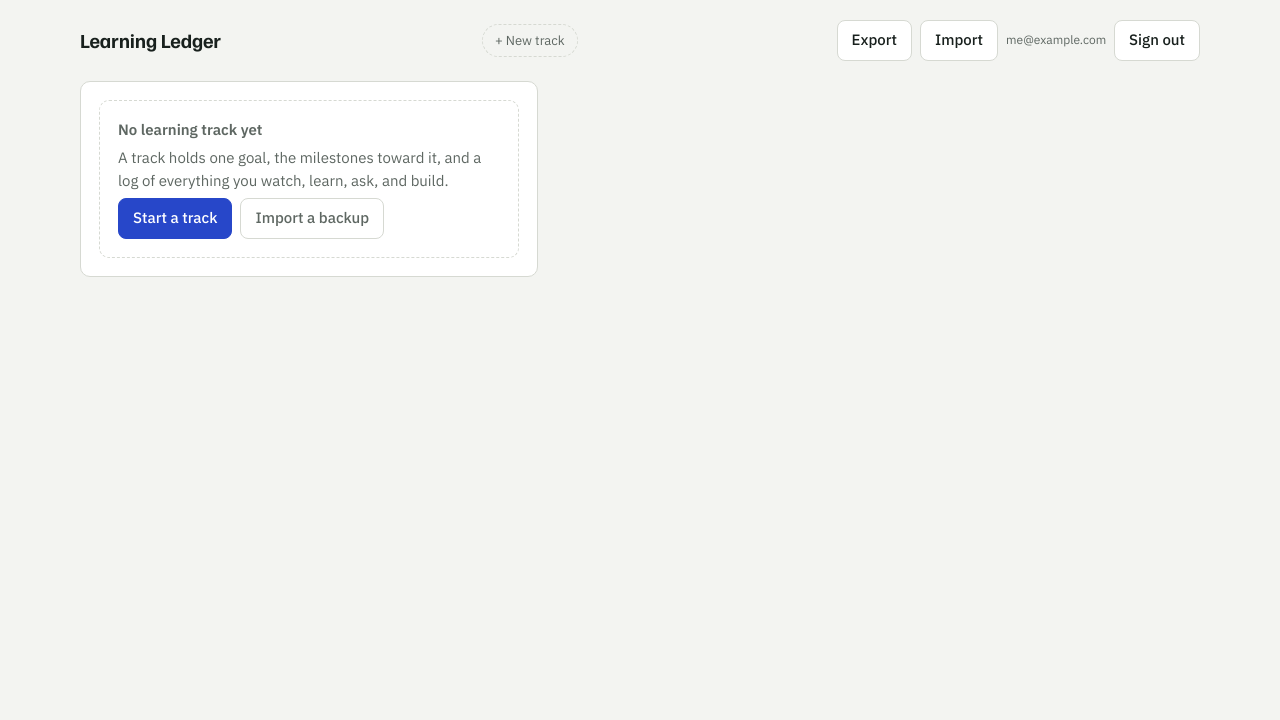
Test case: Learning Ledger app › starts empty and creates a first track
Click the button "Start a track": (175, 218) top-left (118, 198), bottom-right (232, 238)
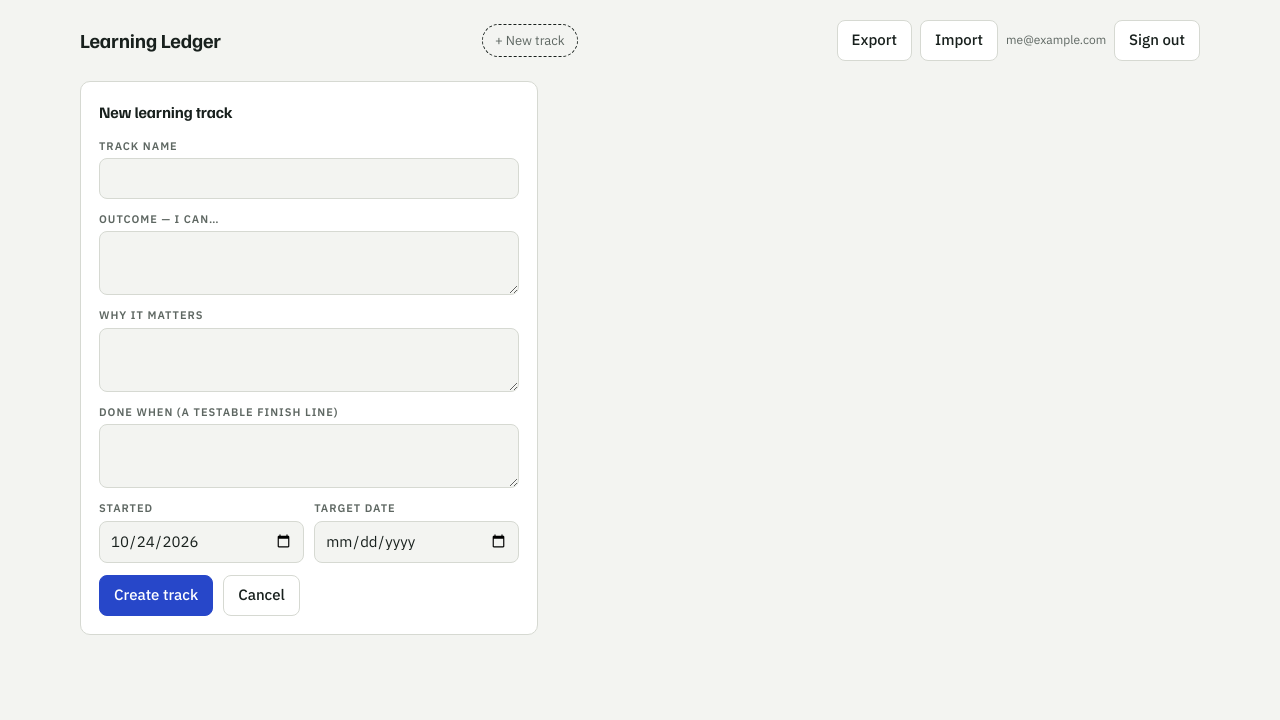
In the field labelled "Track name": (309, 178) top-left (99, 158), bottom-right (519, 198), type "Learn Git"
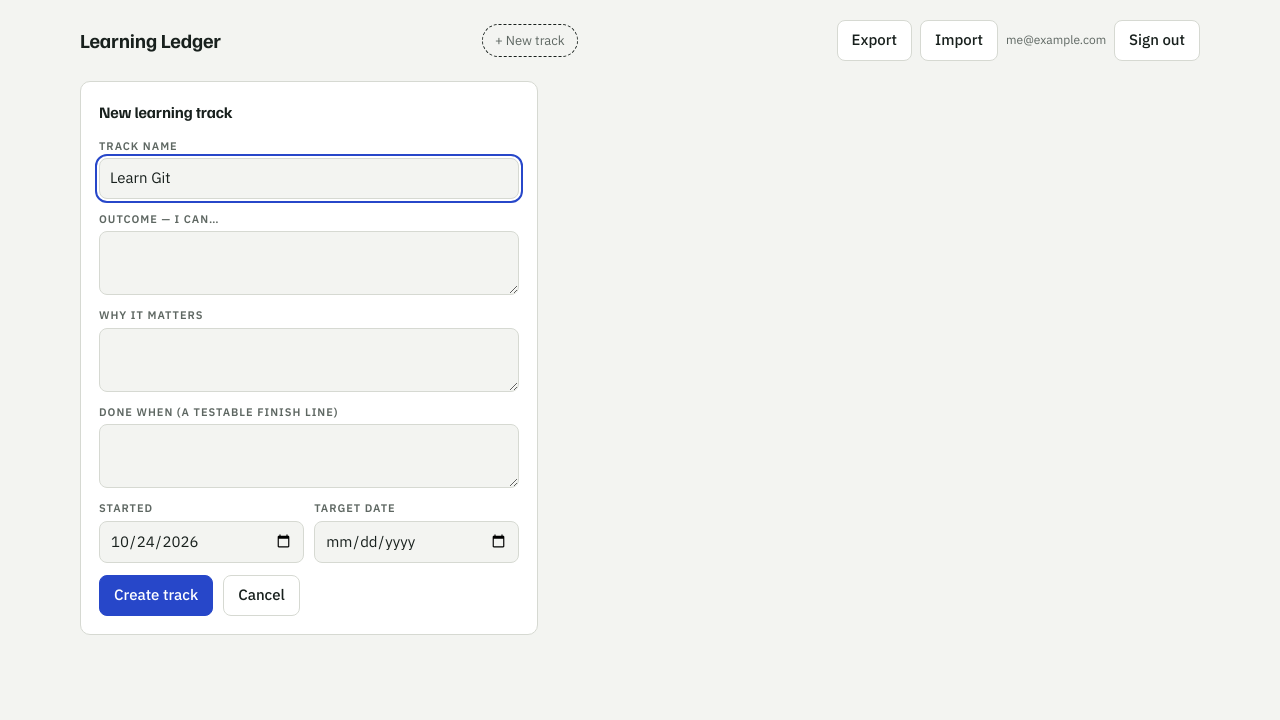
In the text box labelled "Outcome — I can…": (309, 263) top-left (99, 231), bottom-right (519, 295), type "I can branch and merge"
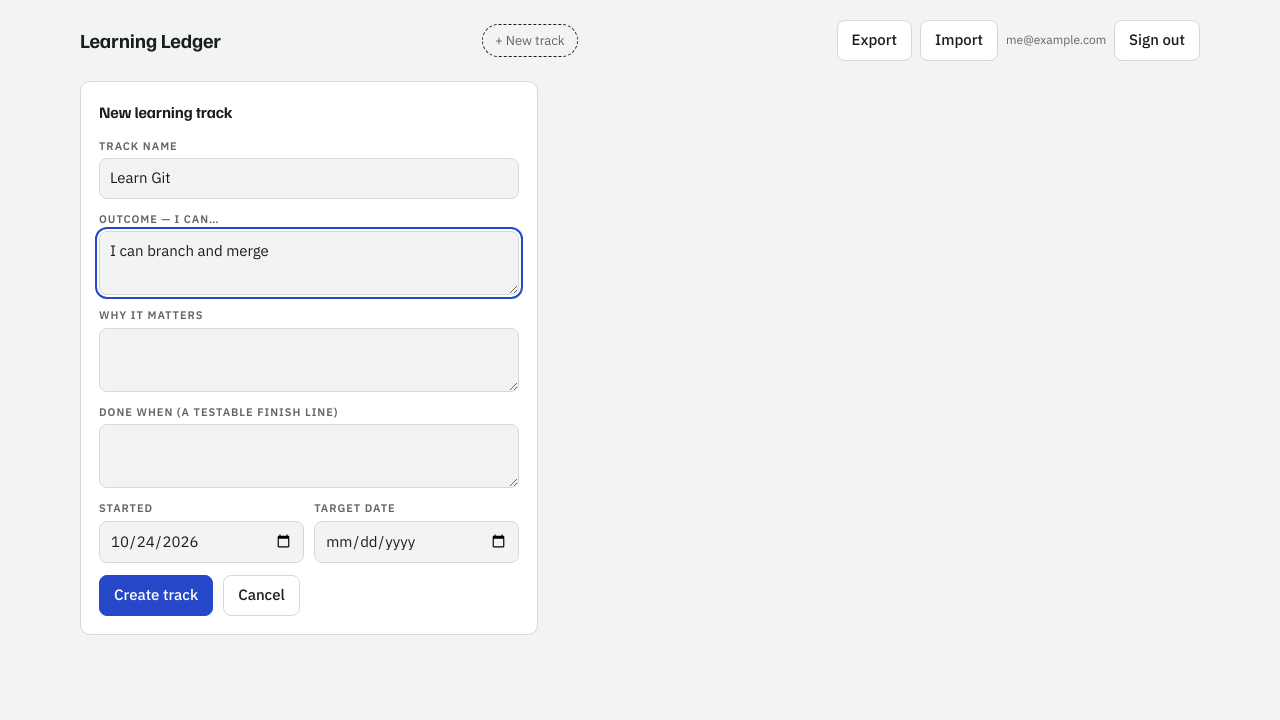
Click the button "Create track": (156, 595) top-left (99, 575), bottom-right (213, 616)
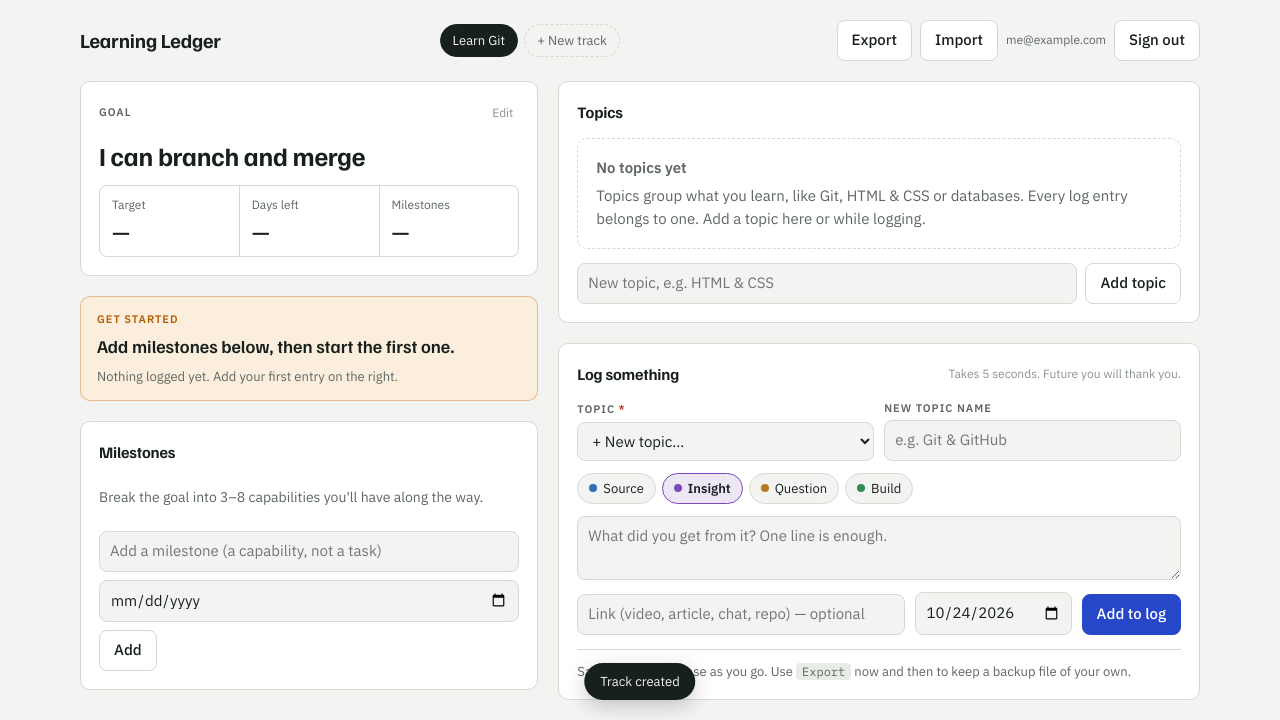
Expected: the message with id "toast" reads "Track created", top-left (600, 672), bottom-right (680, 690)
Expected: the button "Learn Git" is shown, top-left (440, 24), bottom-right (518, 57)
Expected: the heading "I can branch and merge" is shown, top-left (99, 138), bottom-right (365, 172)
